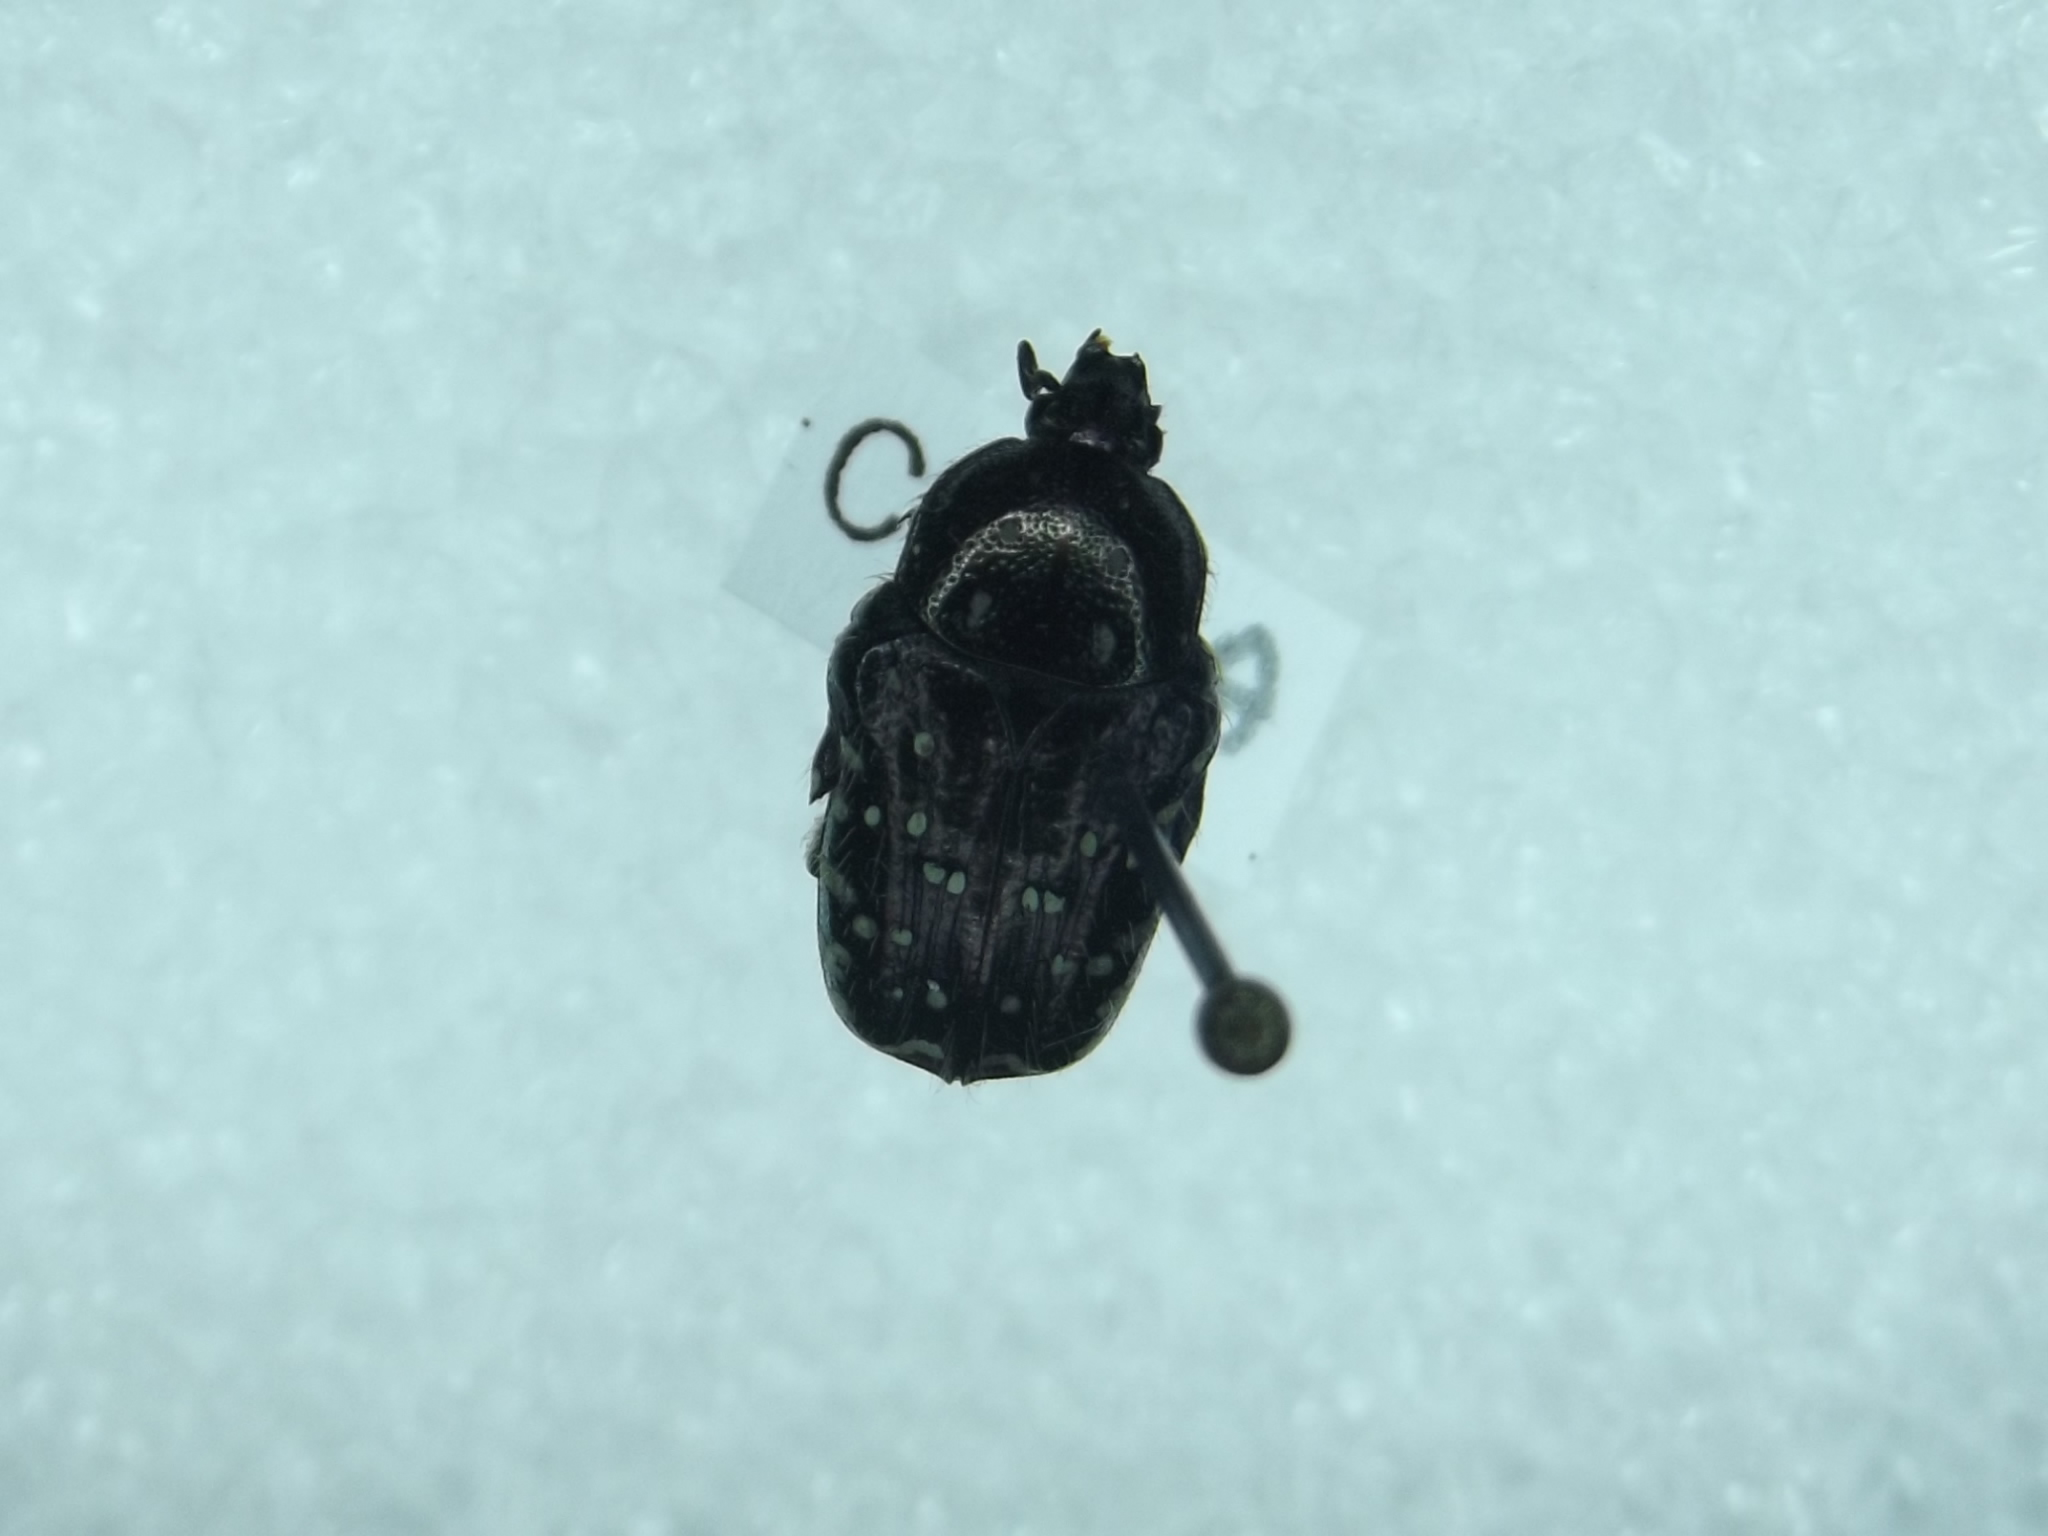Oxythyrea_funesta: (779, 289, 1230, 1105)
